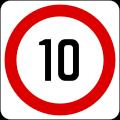Speed Limit -10-: (33, 33, 83, 86)
